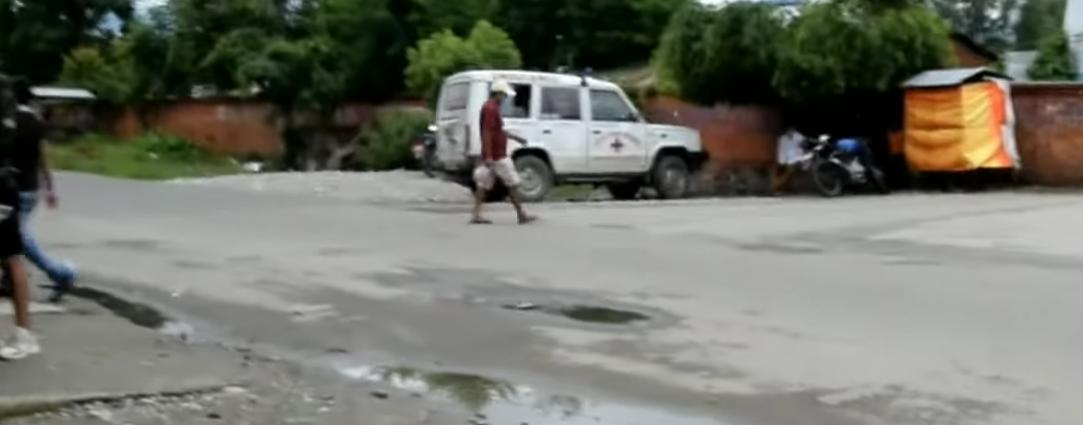ambulance: (429, 57, 714, 219)
